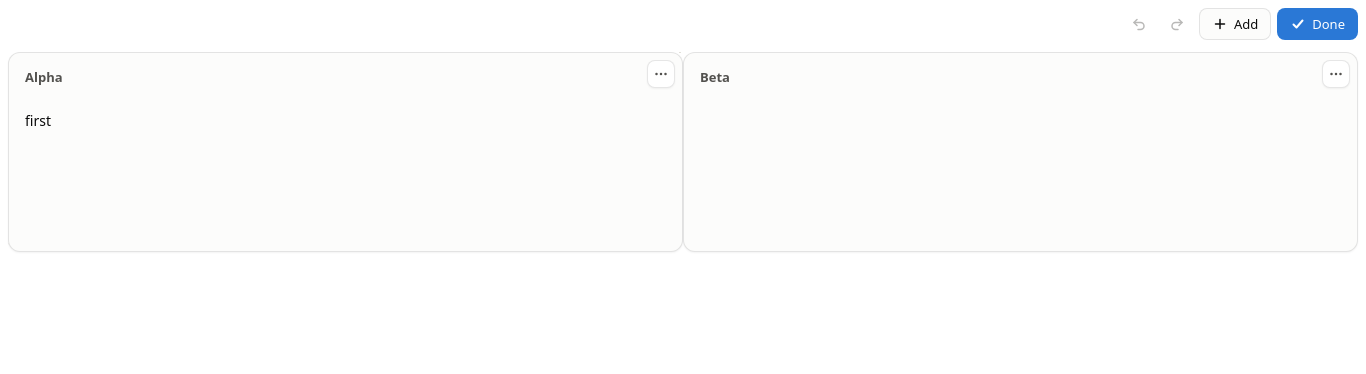
Test: <Dashboard> editing › adds a brick from the toolbar with the type defaults
The image size is (1366, 374).
Click the button "Add": (1235, 24) [1199,8,1271,40]
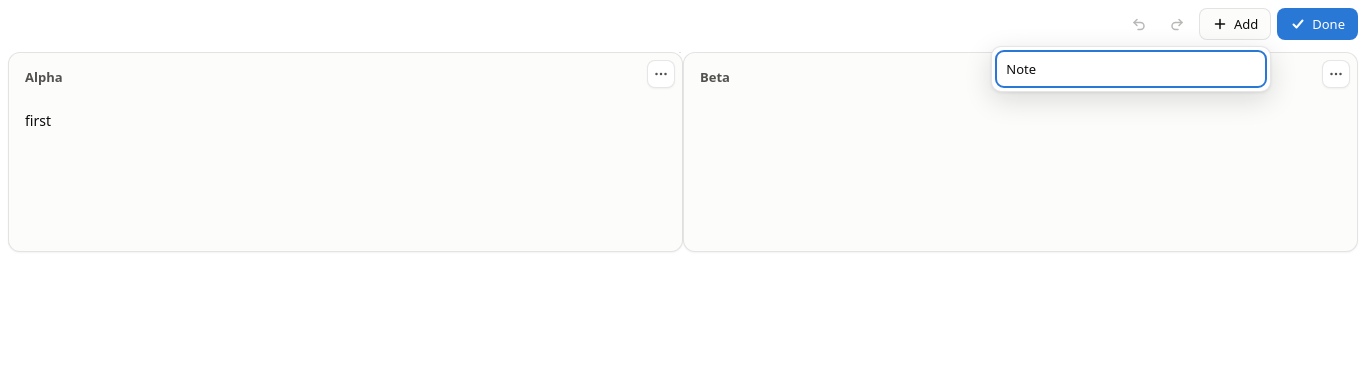
Click the menu item "Note": (1021, 69) [998,53,1264,85]
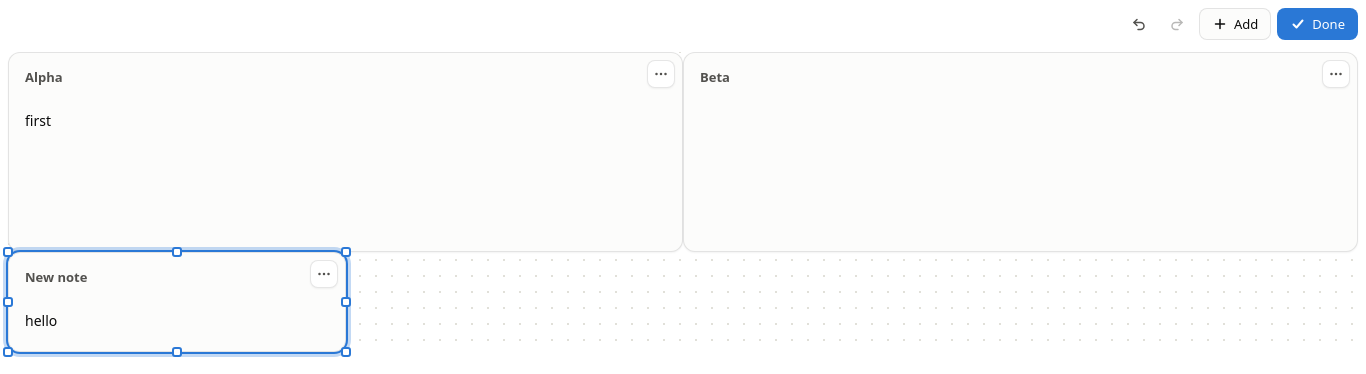
expect the text "hello" is shown: met, box [25,311,57,330]
